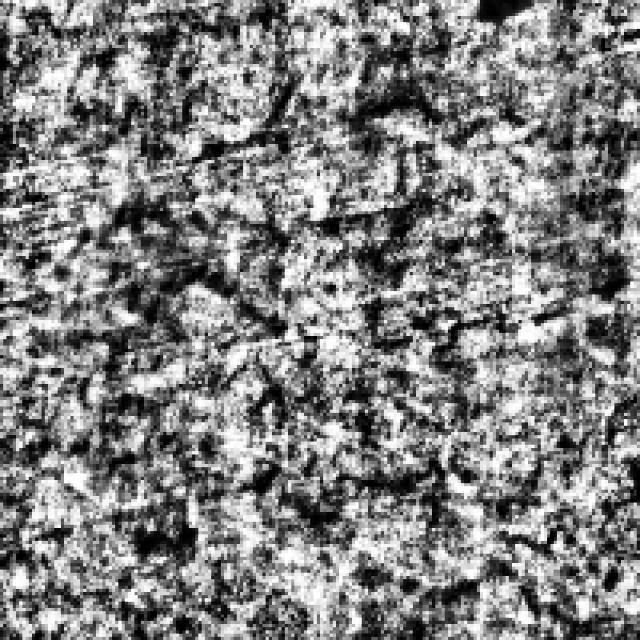Pitted_Surface: (35, 192, 288, 560)
